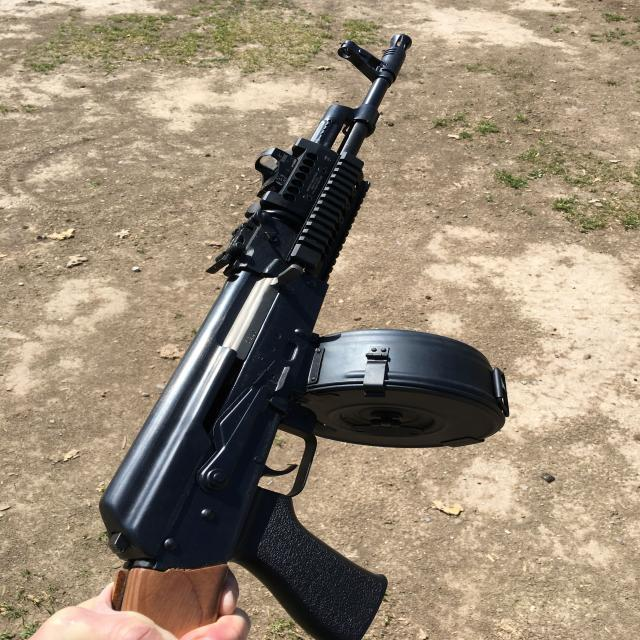ak: (89, 21, 525, 640)
